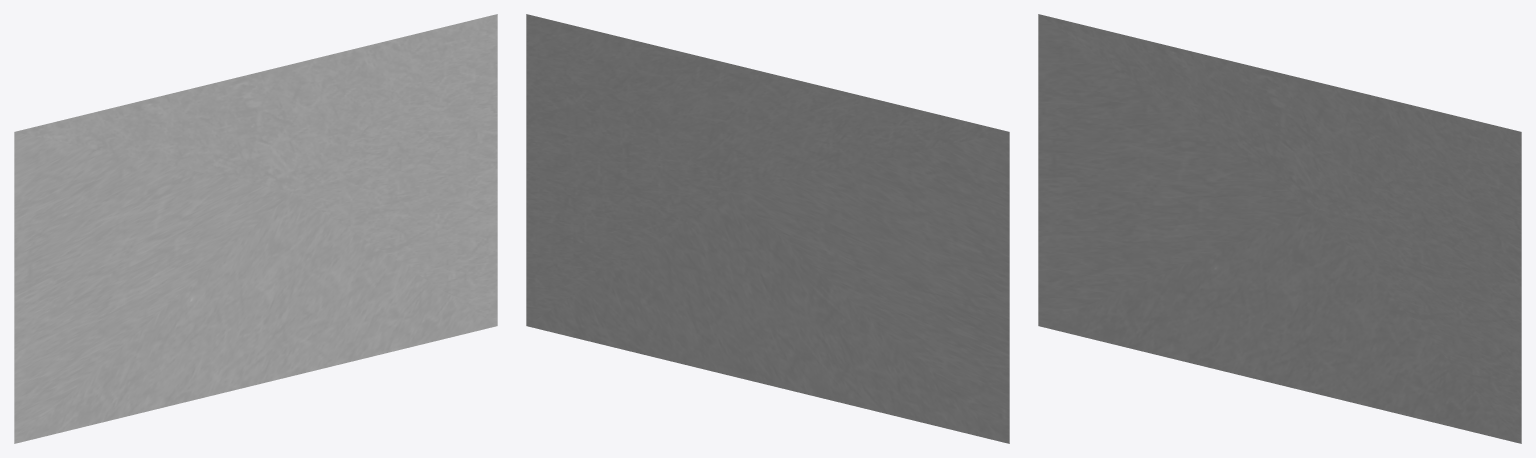
Rendered from irisin.obj.
3 renders of one model, left to right at view 1: azimuth 30°, elevation 25°; view 2: azimuth 150°, elevation 25°; view 3: azimuth 330°, elevation 25°, orthographic.
Visible parts, largest first — view 1: 立方体.001; view 2: 立方体.001; view 3: 立方体.001.
Part boxes in pixels (left/top/right/bottom): 立方体.001: left=14, top=14, right=497, bottom=443; 立方体.001: left=526, top=14, right=1009, bottom=443; 立方体.001: left=1038, top=14, right=1521, bottom=443.
Size of the model in its own units: 228 by 141 by 0.0295.
1 material, 1 textured.
